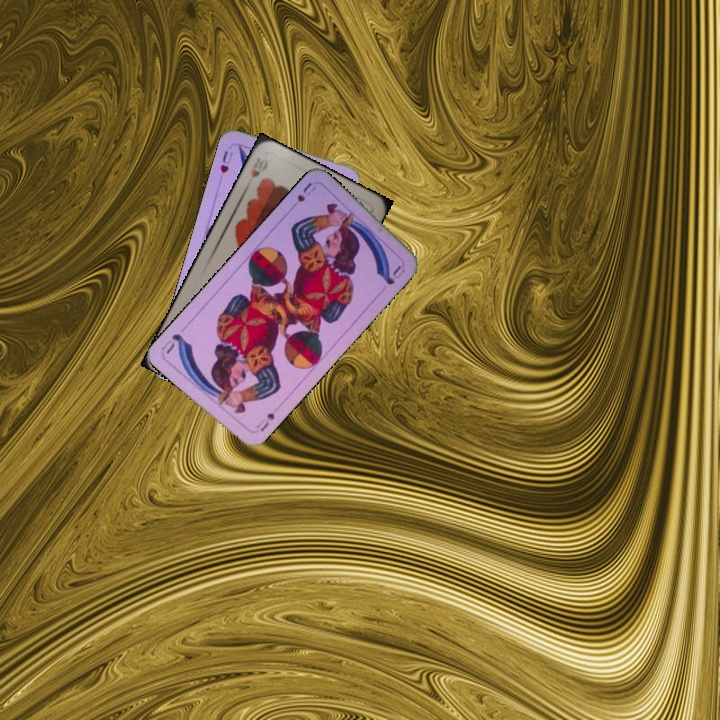H10: (247, 153, 267, 180)
HU: (216, 146, 236, 176)
SU: (285, 178, 319, 213), (252, 409, 277, 434)
